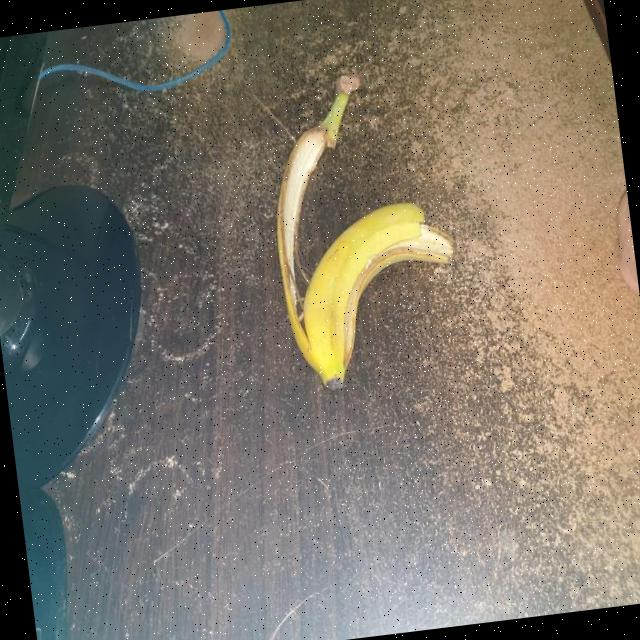banana-peel: (255, 64, 470, 394)
